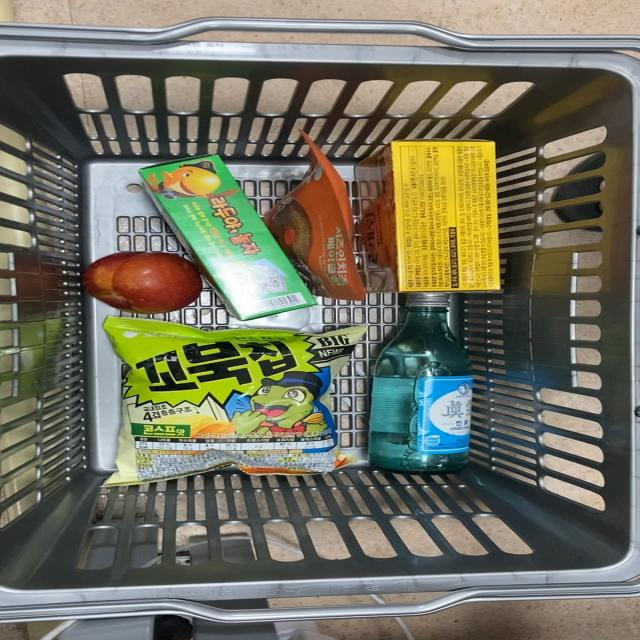cheesebagel: (262, 150, 382, 299)
ggobukchip: (108, 318, 355, 482)
goraebob: (129, 154, 335, 321)
jinro: (374, 292, 483, 476)
minicrab: (378, 135, 518, 294)
plum: (75, 245, 205, 316)
